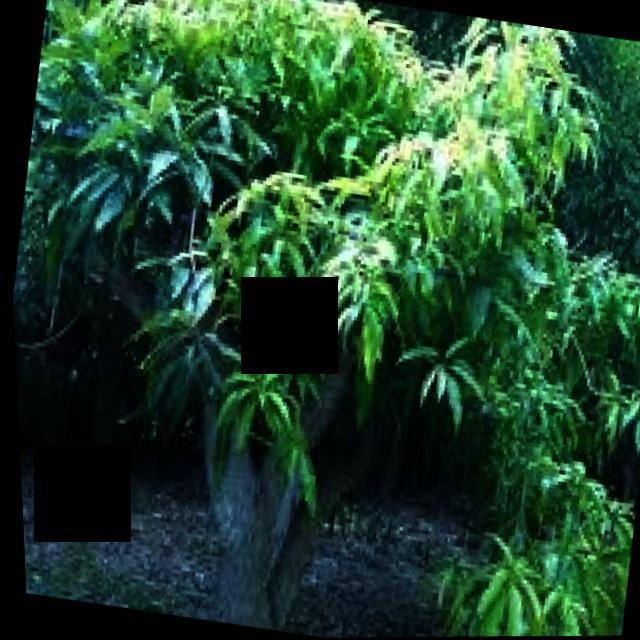Tree: (82, 1, 640, 640)
